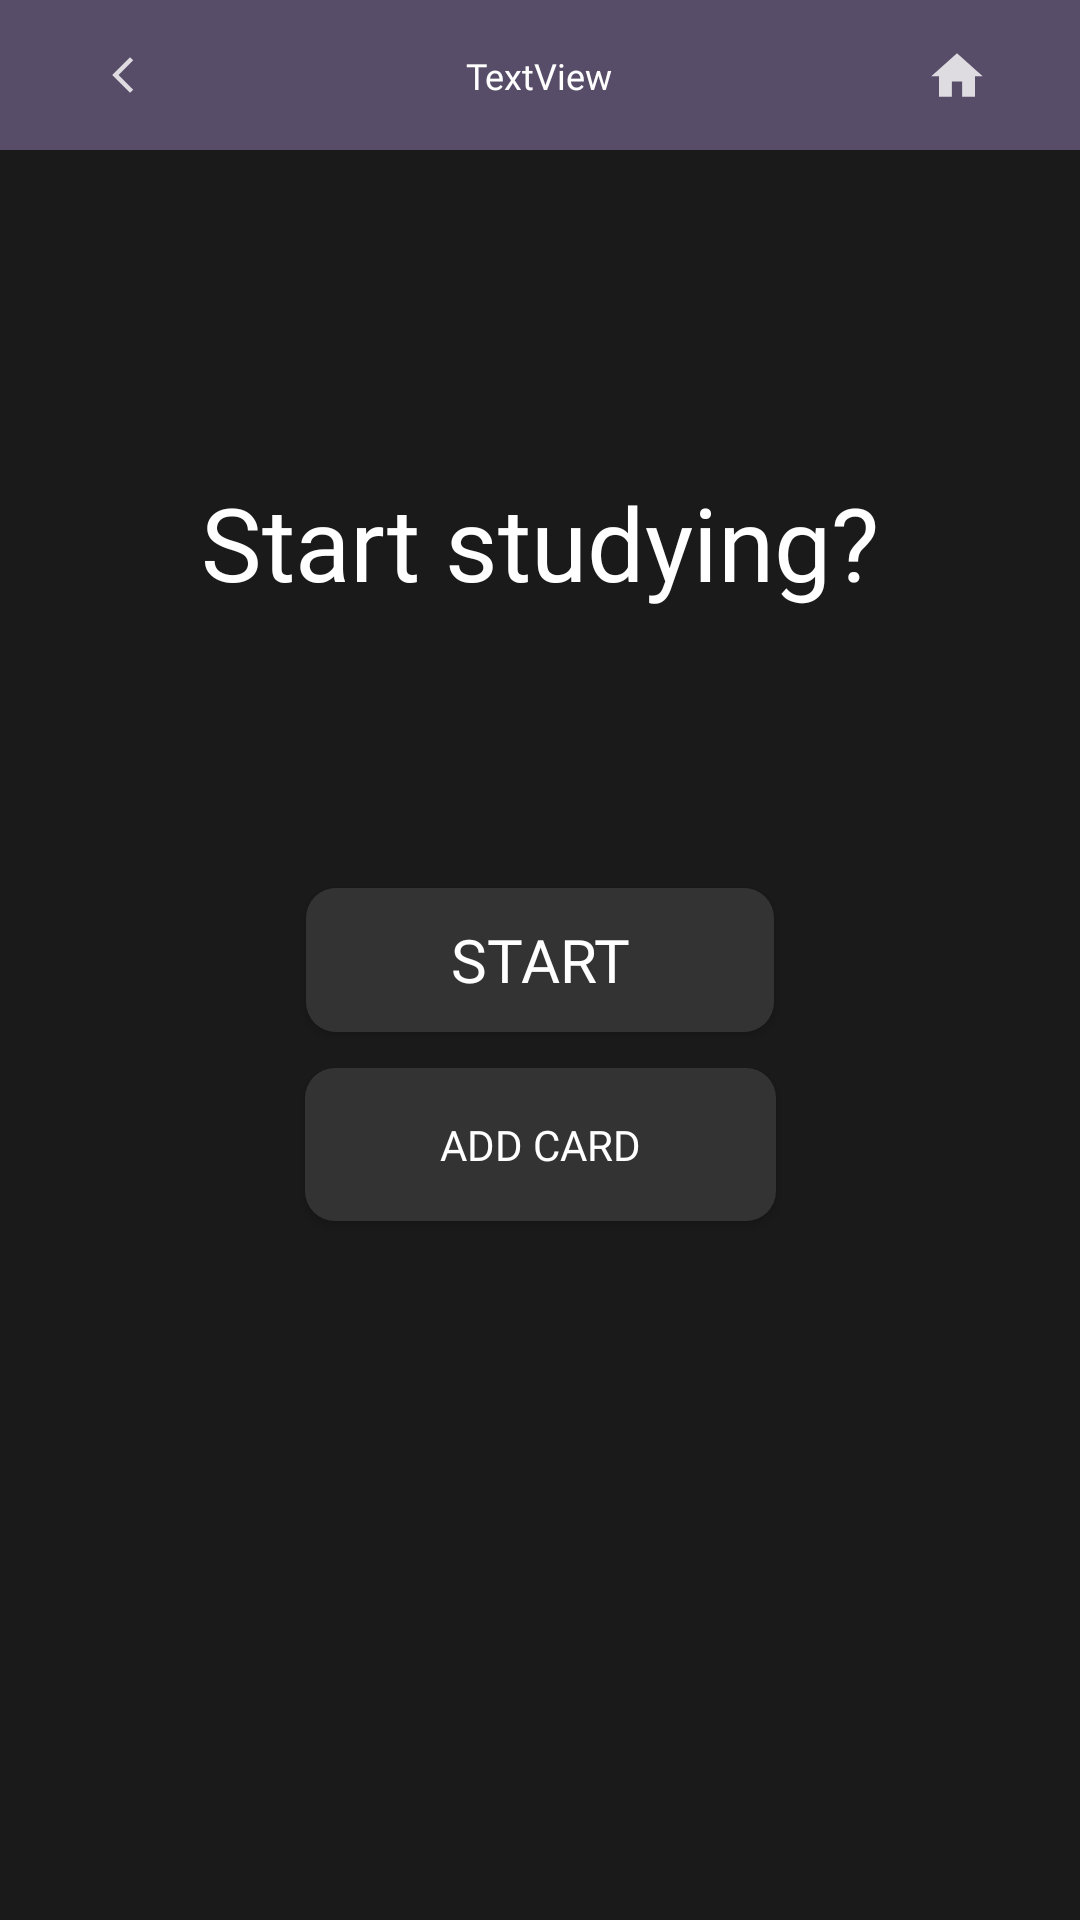

Icon bounding boxes for this 1080px×1920px phone screenshot, format Rect(x1, y1, x2, y2):
back arrow: Rect(112, 57, 133, 93)
home: Rect(932, 53, 982, 97)
